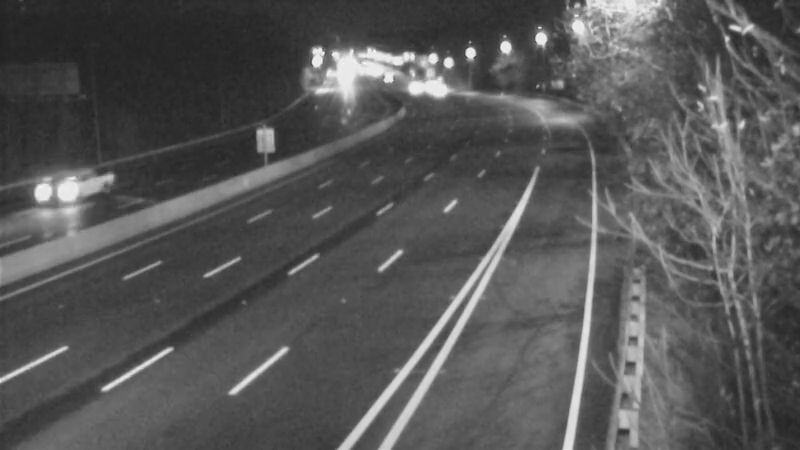vehicle: (21, 147, 101, 227), (388, 62, 438, 112)
